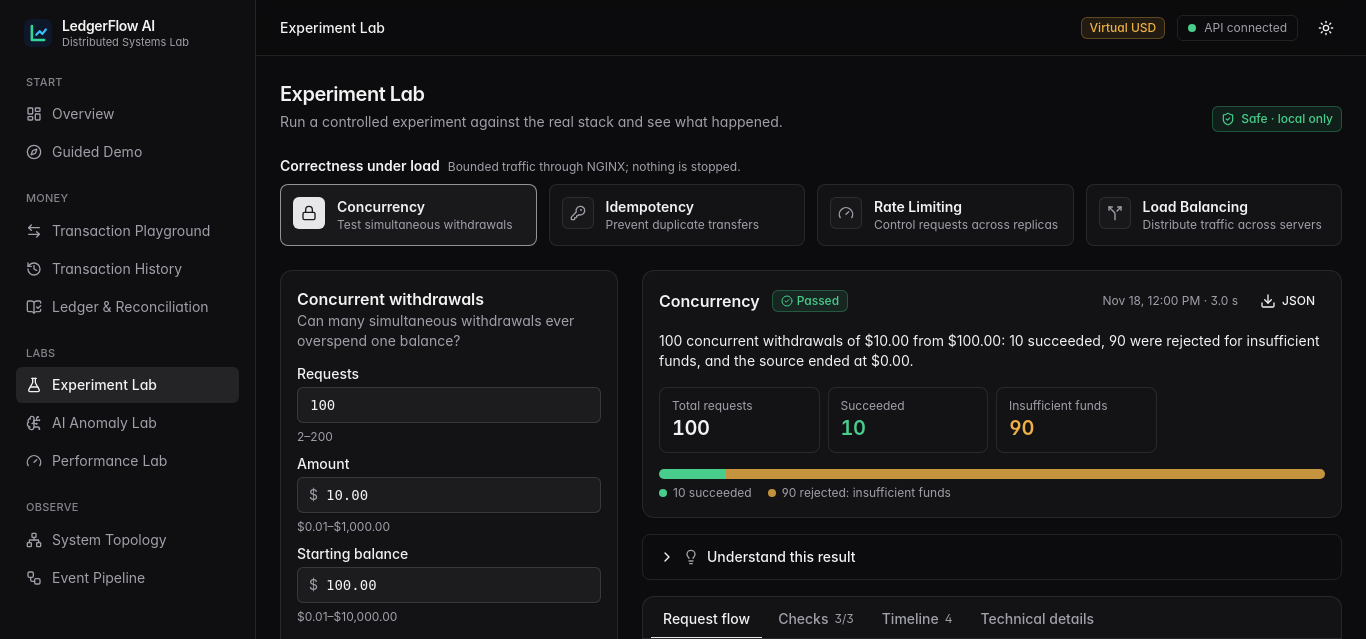
Test: running an experiment › the guided explanation follows the same four questions and uses the run's own result
The image size is (1366, 639).
Click the button "Understand this result" at (781, 556), box [643,535,1341,579]
(page scrolled)
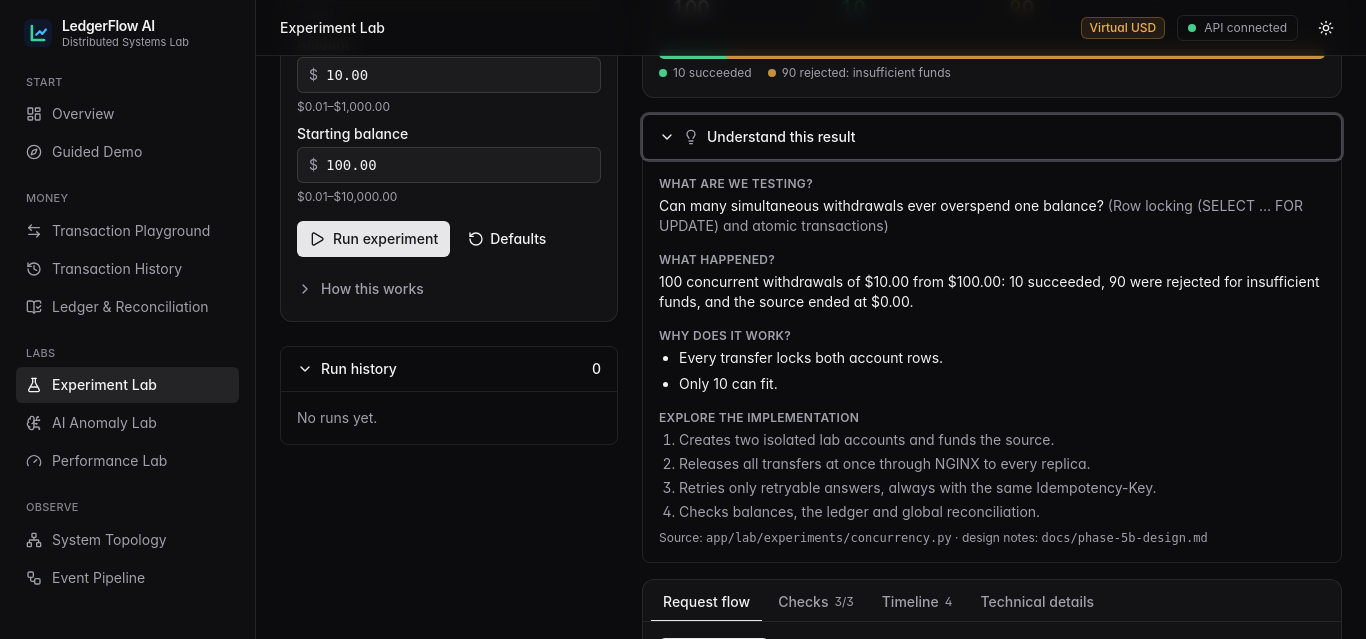
Check: the heading "What are we testing?" is shown, box [659,176,813,191]
Check: the heading "What happened?" is shown, box [659,252,775,267]
Check: the heading "Why does it work?" is shown, box [659,328,791,343]
